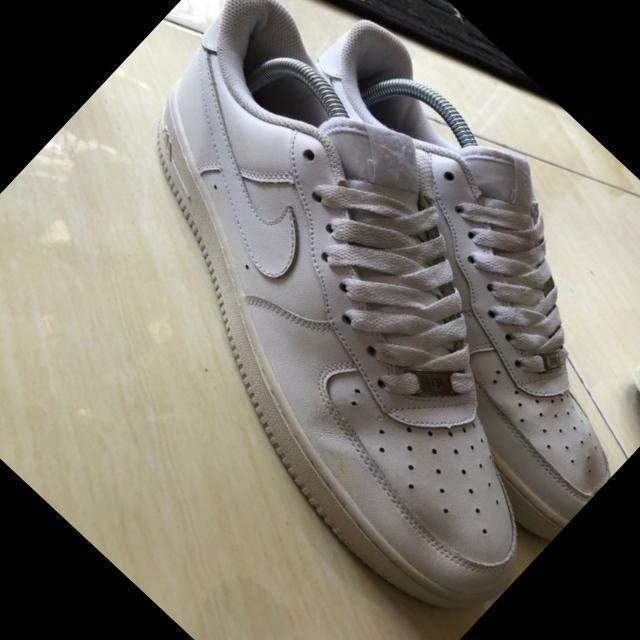nike fake air force: (0, 0, 640, 640), (173, 7, 640, 552)
